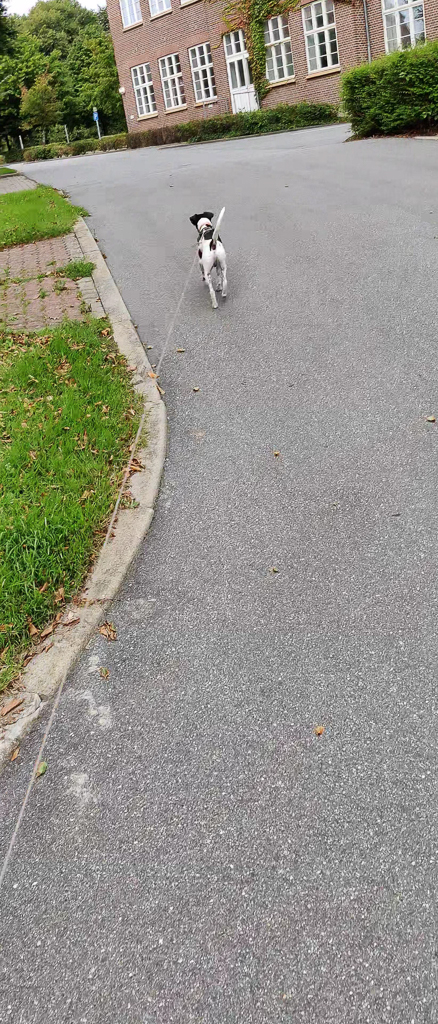Dog: (179, 199, 242, 319)
